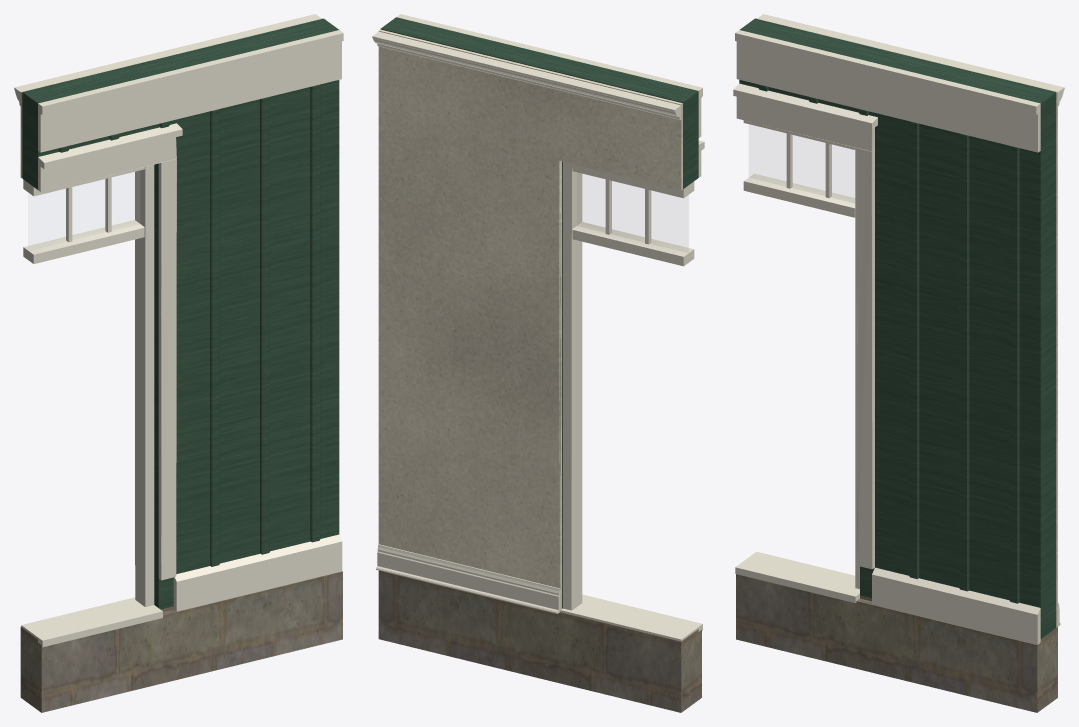
The model's file is w_door_r.glb.
3 renders of one model, left to right at view 1: azimuth 30°, elevation 25°; view 2: azimuth 150°, elevation 25°; view 3: azimuth 330°, elevation 25°, orthographic.
Visible parts, largest first — view 1: w_door_r_boards, w_door_r_trim, w_door_r_stone, w_door_r_frame, w_door_r_glass, molduras, w_door_r_plaster; view 2: w_door_r_plaster, w_door_r_stone, w_door_r_frame, molduras, w_door_r_boards, w_door_r_glass, w_door_r_trim; view 3: w_door_r_boards, w_door_r_trim, w_door_r_stone, w_door_r_glass, w_door_r_frame, molduras, w_door_r_plaster.
Part boxes in pixels (box(x1,y1,x2,y2)): w_door_r_boards: box(22, 18, 339, 609); w_door_r_trim: box(21, 30, 343, 647); w_door_r_stone: box(20, 571, 342, 712); w_door_r_frame: box(23, 164, 154, 606); w_door_r_glass: box(29, 171, 139, 250); molduras: box(14, 14, 320, 105); w_door_r_plaster: box(20, 18, 322, 177); w_door_r_plaster: box(378, 29, 682, 611); w_door_r_stone: box(378, 570, 701, 712); w_door_r_frame: box(563, 162, 694, 610); molduras: box(372, 31, 681, 613); w_door_r_boards: box(380, 17, 698, 608); w_door_r_glass: box(577, 173, 688, 252); w_door_r_trim: box(396, 14, 704, 641); w_door_r_boards: box(739, 18, 1056, 638); w_door_r_trim: box(733, 30, 1040, 644); w_door_r_stone: box(736, 574, 1057, 712); w_door_r_glass: box(749, 125, 854, 202); w_door_r_frame: box(743, 120, 859, 588); molduras: box(758, 14, 1064, 626); w_door_r_plaster: box(756, 18, 1057, 627).
Bounding box in the file's own units: 2 × 3.85 × 0.345.
Materials: 6 (3 with a texture image).
